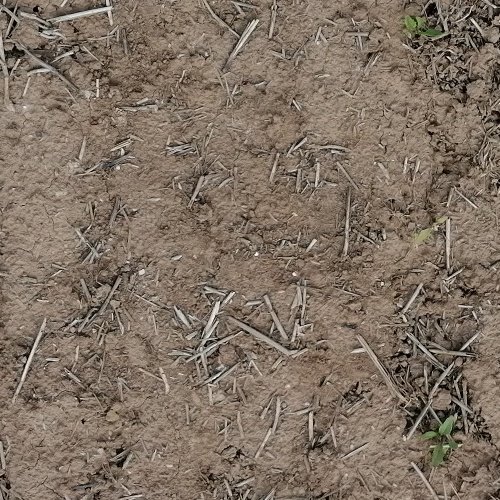beet: (420, 415, 454, 469), (405, 14, 445, 40)
